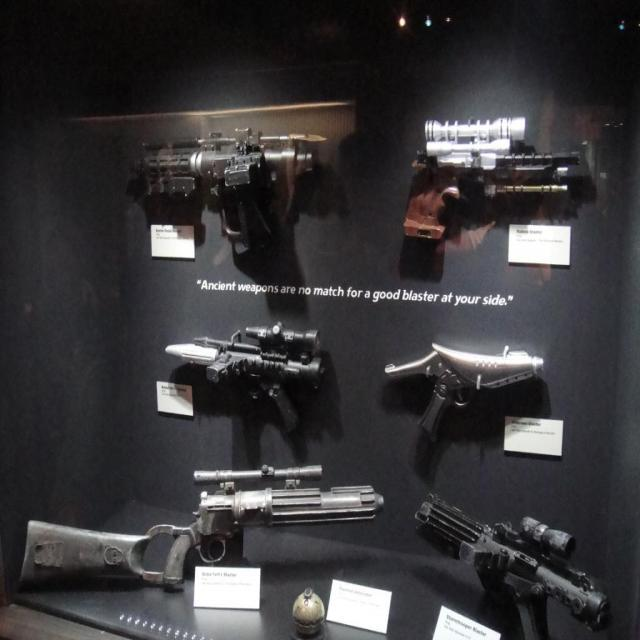weapon: (18, 464, 384, 586), (415, 494, 611, 640), (402, 116, 600, 245), (134, 129, 320, 259), (163, 321, 324, 461), (382, 342, 544, 446)
